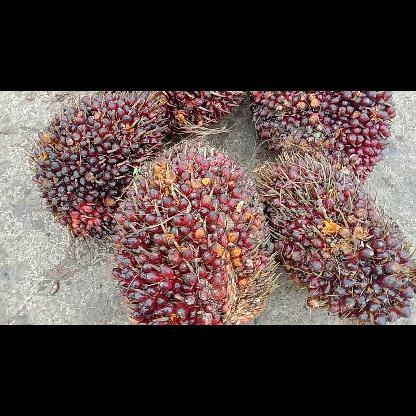Kurang masak: (108, 138, 276, 324), (252, 148, 414, 324), (28, 91, 170, 243), (247, 91, 397, 187)
